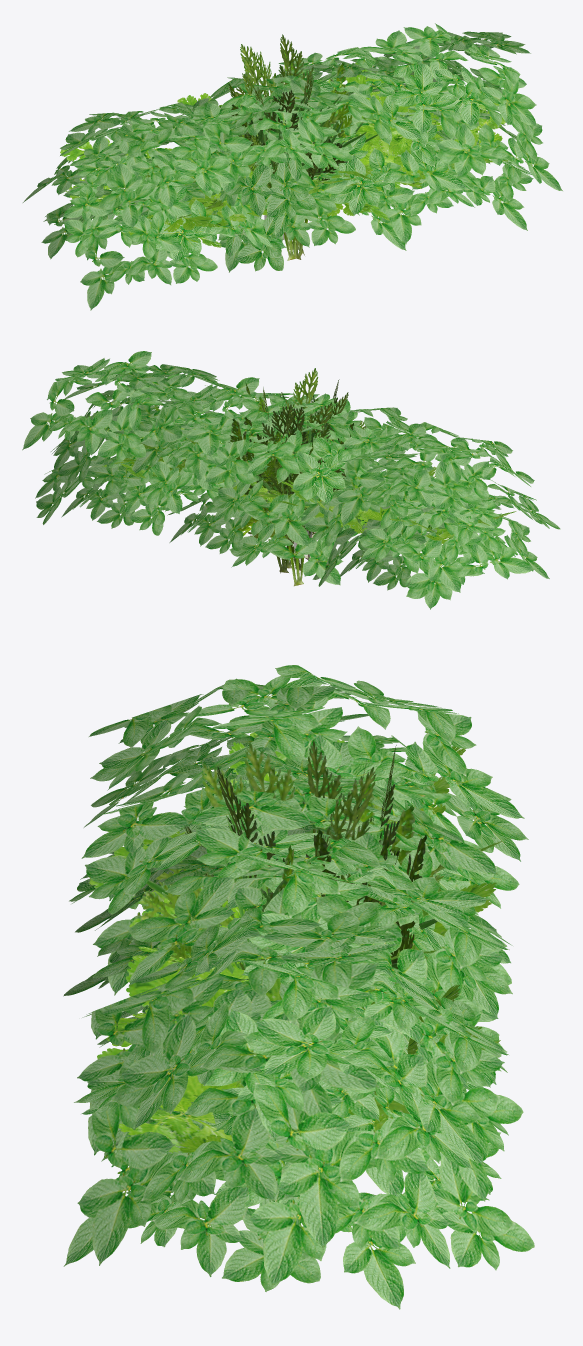
The model's file is HortaAssets.fbx.
3 renders of one model, top to bottom at view 1: azimuth 30°, elevation 25°; view 2: azimuth 150°, elevation 25°; view 3: azimuth 270°, elevation 25°, orthographic. The views are drawn at different scales.
Parts seen in each view (by area): view 1: Batata, Salsinha, Cenoura, Cebolinha; view 2: Batata, Cenoura, Salsinha, Cebolinha; view 3: Batata, Cenoura, Salsinha, Cebolinha.
Boxes of the visible parts, x1,y1,x2,y2 form: Batata: [23, 23, 562, 310]; Salsinha: [60, 62, 507, 247]; Cenoura: [218, 34, 354, 260]; Cebolinha: [219, 81, 377, 239]; Batata: [22, 351, 560, 609]; Cenoura: [214, 368, 366, 586]; Salsinha: [89, 405, 516, 543]; Cebolinha: [256, 392, 338, 560]; Batata: [63, 665, 534, 1309]; Cenoura: [140, 741, 442, 988]; Salsinha: [89, 732, 502, 1154]; Cebolinha: [146, 783, 437, 974].
Bounding box in the file's own units: 304 × 123 × 139.
Materials: 1 (1 with a texture image).
